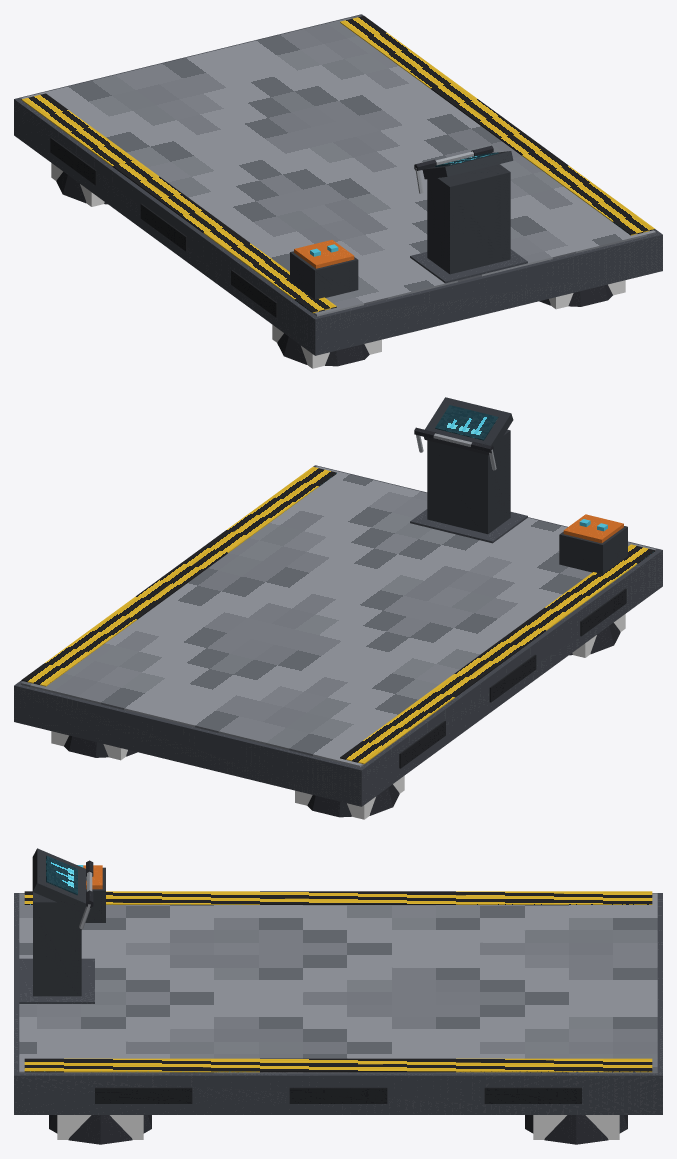
The model's file is hover_platform.fbx.
3 views of the same model, one above another, from view 1: azimuth 30°, elevation 25°; view 2: azimuth 150°, elevation 25°; view 3: azimuth 270°, elevation 25° (orthographic). The views are drawn at different scales.
Visible parts, largest first — view 1: hover_platform, hover_platform_phys; view 2: hover_platform, hover_platform_phys; view 3: hover_platform, hover_platform_phys.
Boxes of the visible parts, left/top/right/bottom form: hover_platform: left=14, top=14, right=662, bottom=366; hover_platform_phys: left=51, top=163, right=625, bottom=368; hover_platform: left=14, top=397, right=662, bottom=817; hover_platform_phys: left=51, top=614, right=625, bottom=819; hover_platform: left=14, top=848, right=662, bottom=1144; hover_platform_phys: left=57, top=1115, right=619, bottom=1139.
Size of the model in its own units: 403 by 200 by 600.
1 material, 1 textured.
